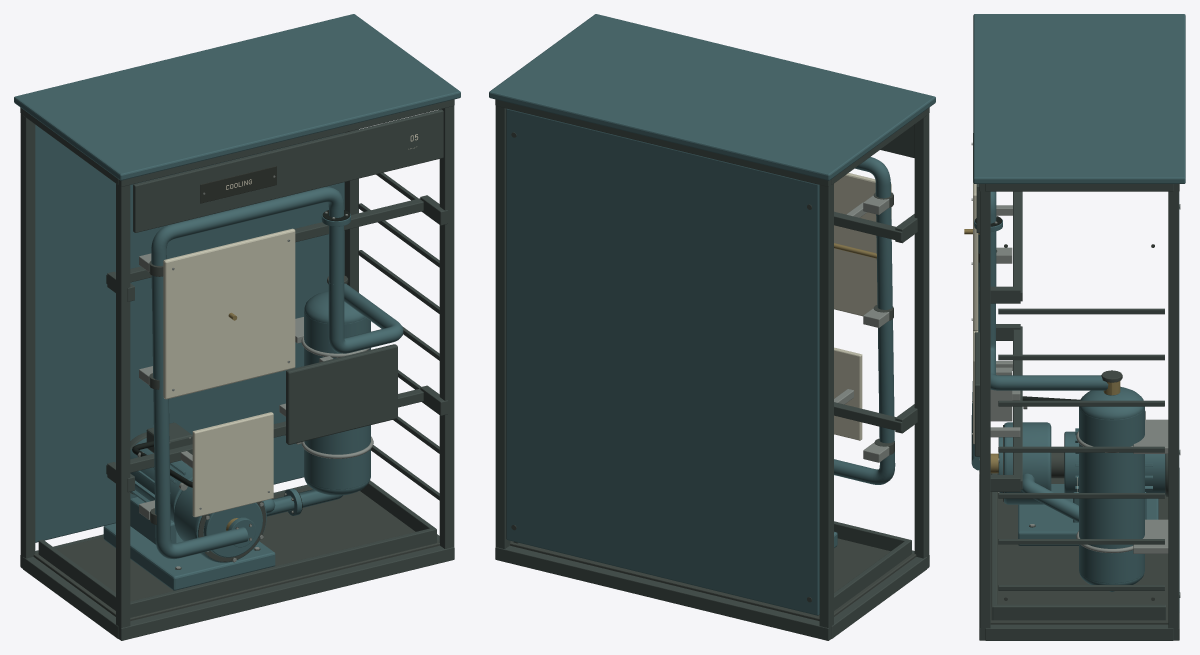
Rendered from COOLING_Frame.fbx.
The picture shows the model from 3 angles, left to right: view 1: azimuth 30°, elevation 25°; view 2: azimuth 150°, elevation 25°; view 3: azimuth 270°, elevation 25°; orthographic projection.
Visible parts, largest first — view 1: COOLING_Frame_EXPORT; view 2: COOLING_Frame_EXPORT; view 3: COOLING_Frame_EXPORT.
Part boxes in pixels (x1,y1,x2,y2): COOLING_Frame_EXPORT: (14,14,460,640); COOLING_Frame_EXPORT: (489,14,935,640); COOLING_Frame_EXPORT: (964,14,1185,640).
Size of the model in its own units: 1.8 by 2.39 by 1.02.
